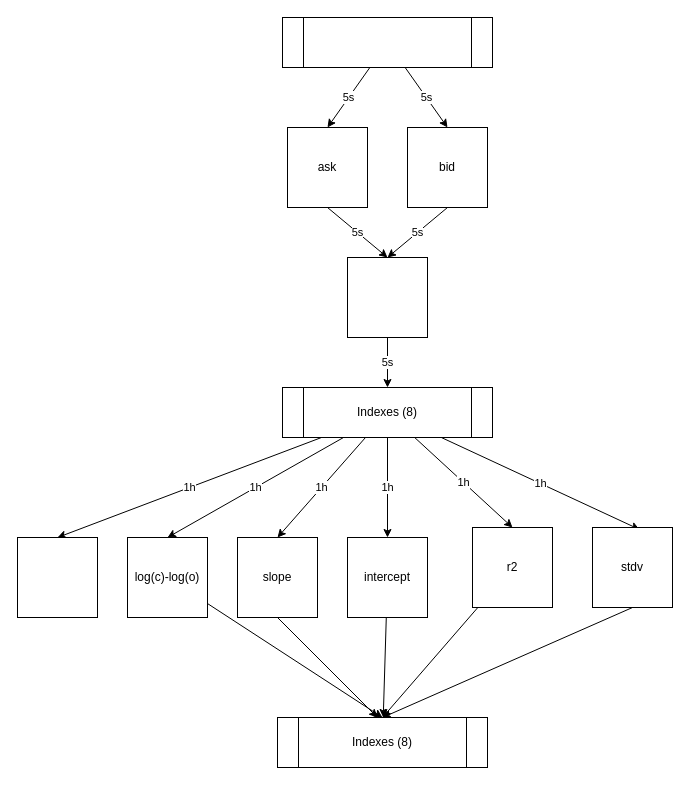
The diagram is 690 pixels wide and 785 high, and some of its shapes have lost their labels. The box of each missing label's shape, as (x1, y1, x2, y2) in pixels:
c/o-1: (16, 536, 98, 618)
mids: (346, 256, 428, 338)
Symbols (28): (282, 16, 492, 68)
